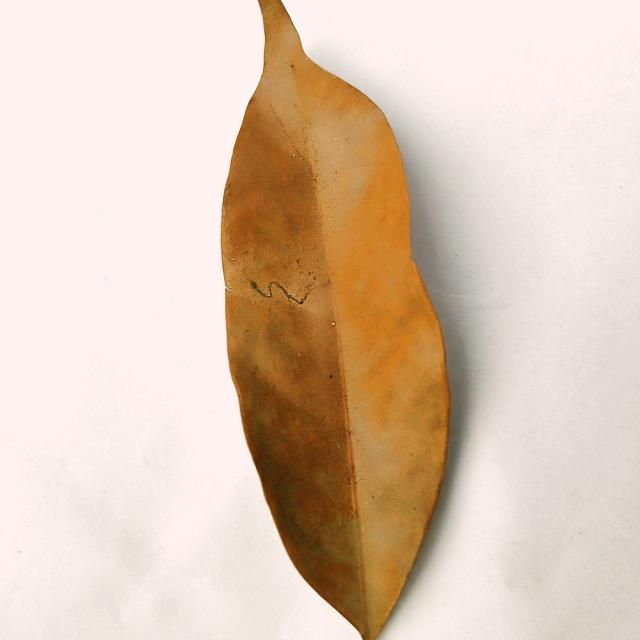Dry_Leaf-Lychee: (220, 0, 453, 639)
